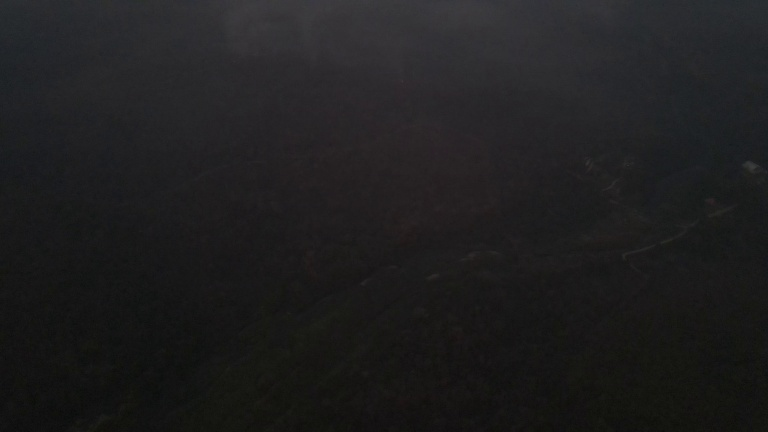fire: (398, 75, 408, 87)
smoke: (216, 1, 405, 69)
